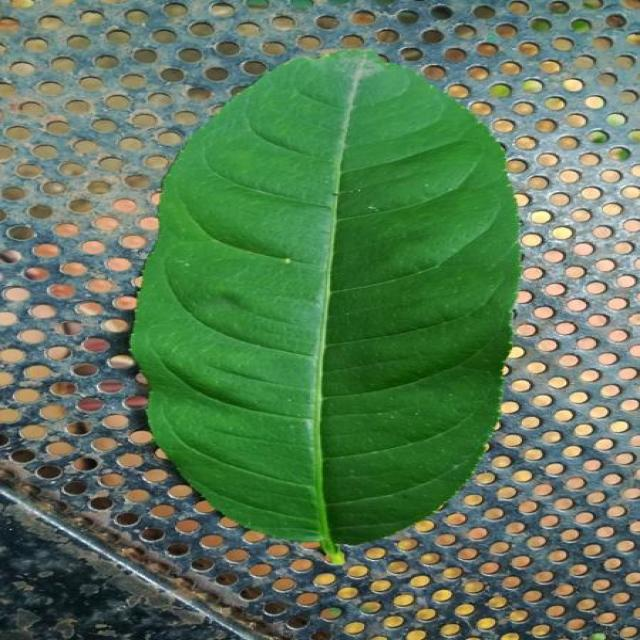badipala: (132, 50, 520, 563)
